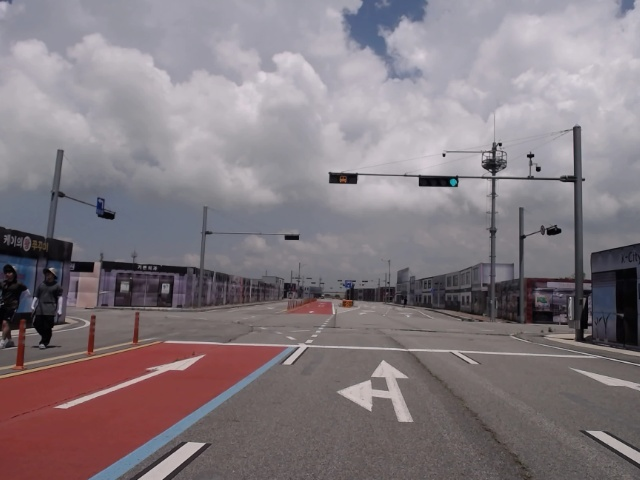straight_green_4: (418, 175, 459, 188)
